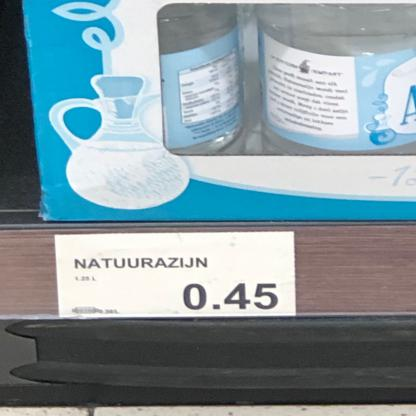prtg: (56, 232, 298, 319)
